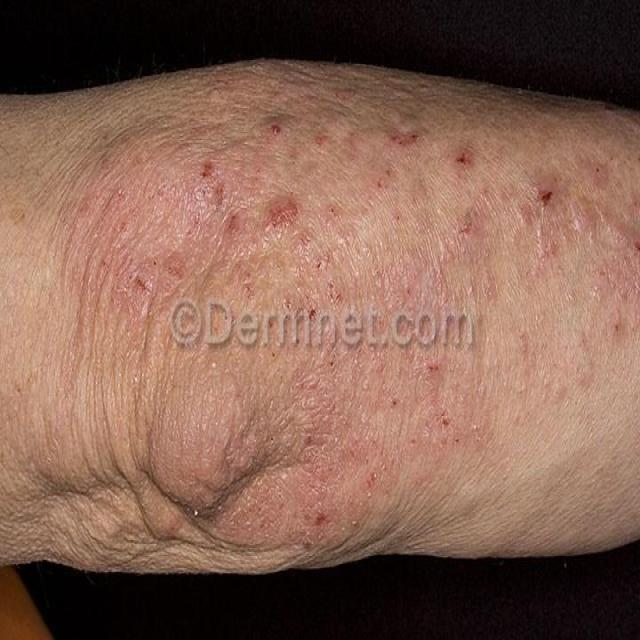Eczema: (116, 106, 624, 504)
